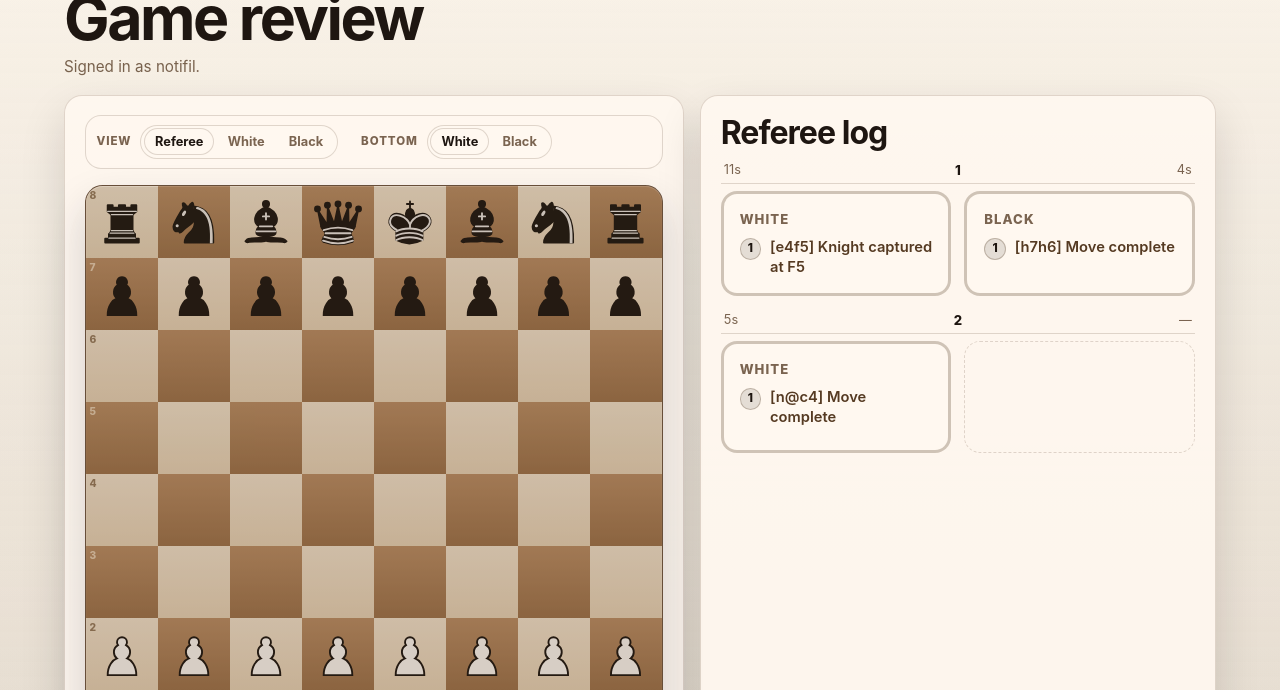
ReviewPage › shows_crazykrieg_replay_reserves_below_the_board
expect the heading "Referee log" is shown: met, box [721,115,887,150]
Click the button with aria-label "White [e4f5] Knight captured at F5": (836, 243) [721,191,951,296]
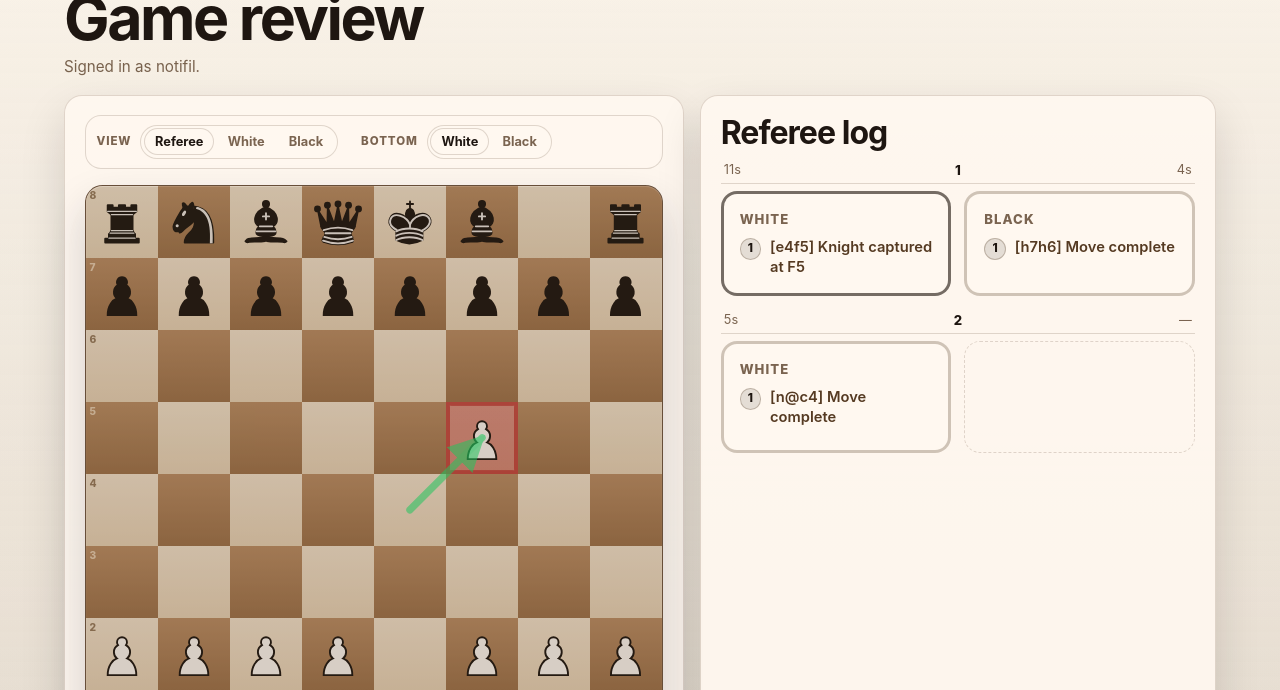
Click the button with aria-label "White [n@c4] Move complete": (836, 397) [721,341,951,453]
(page scrolled)
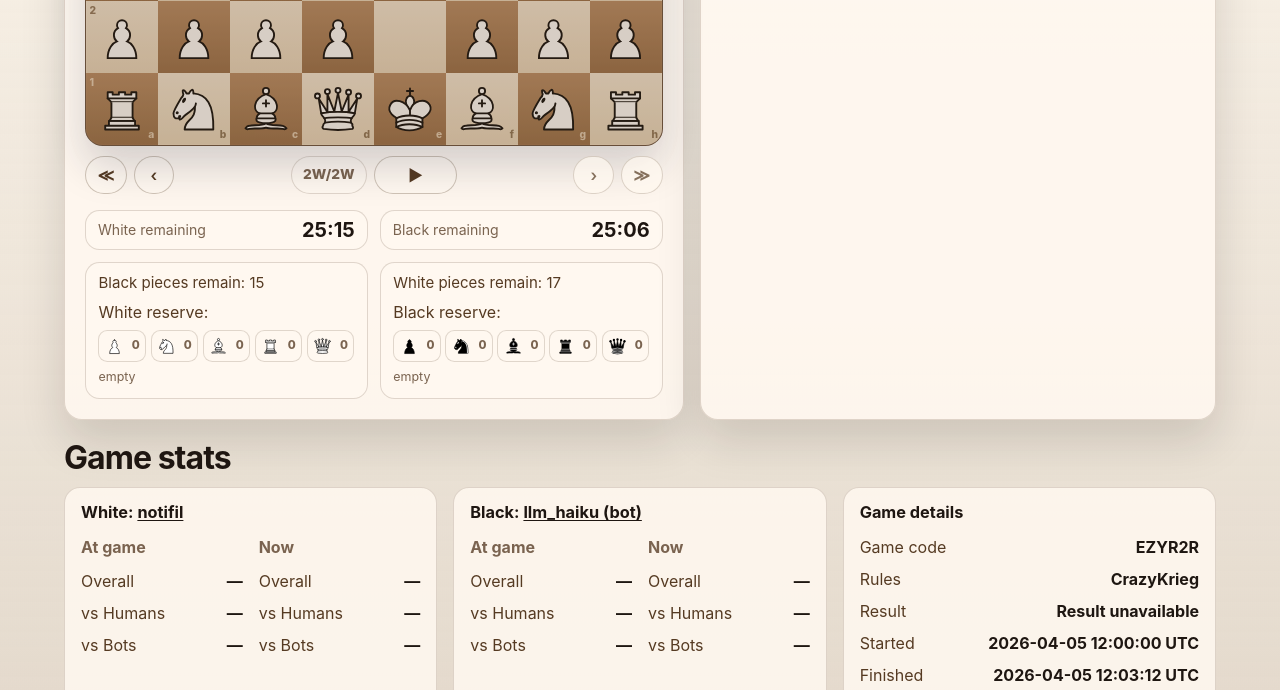
expect the element named "Knight reserve piece (0)" is shown: met, box [150,330,198,362]
